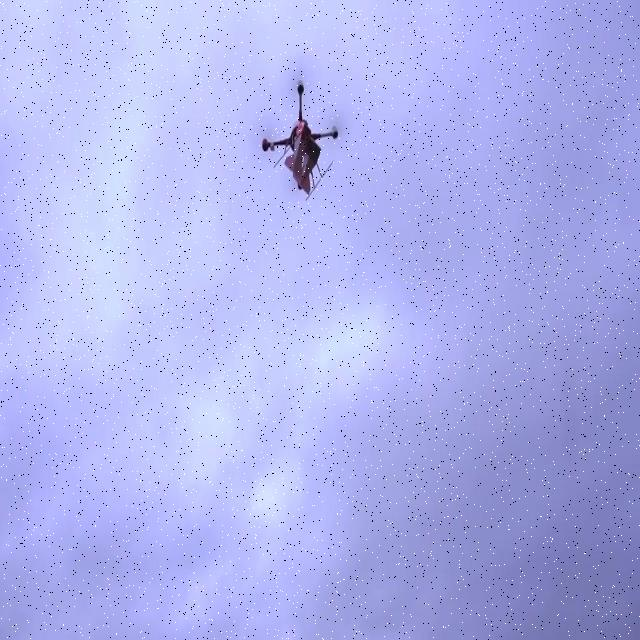UAV: (262, 81, 338, 202)
